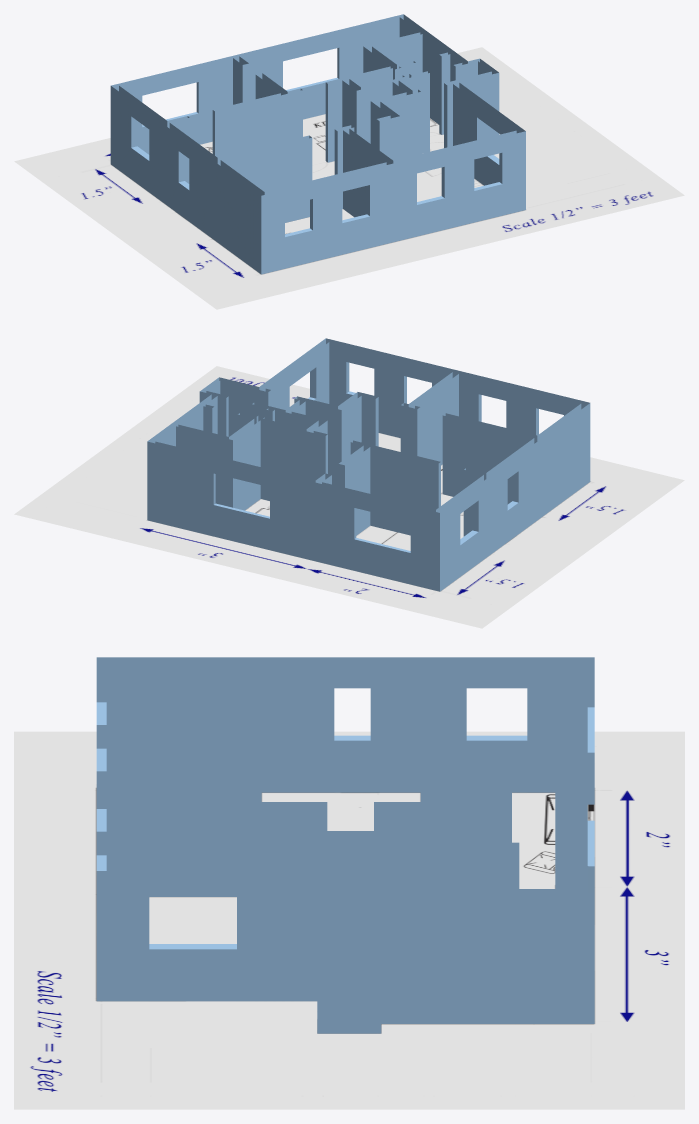
File: VirtualSpace.fbx
3 renders of one model, top to bottom at view 1: azimuth 30°, elevation 25°; view 2: azimuth 150°, elevation 25°; view 3: azimuth 270°, elevation 25°, orthographic. The views are drawn at different scales.
Parts seen in each view (by area): view 1: Wall, asdf; view 2: Wall, asdf; view 3: Wall, asdf.
Part boxes in pixels (left/top/right/bottom): Wall: left=110, top=14, right=525, bottom=274; asdf: left=14, top=47, right=684, bottom=309; Wall: left=147, top=338, right=590, bottom=591; asdf: left=14, top=366, right=684, bottom=628; Wall: left=96, top=657, right=594, bottom=1033; asdf: left=14, top=731, right=684, bottom=1109.
Bounding box in the file's own units: 1555 × 250 × 1166.
